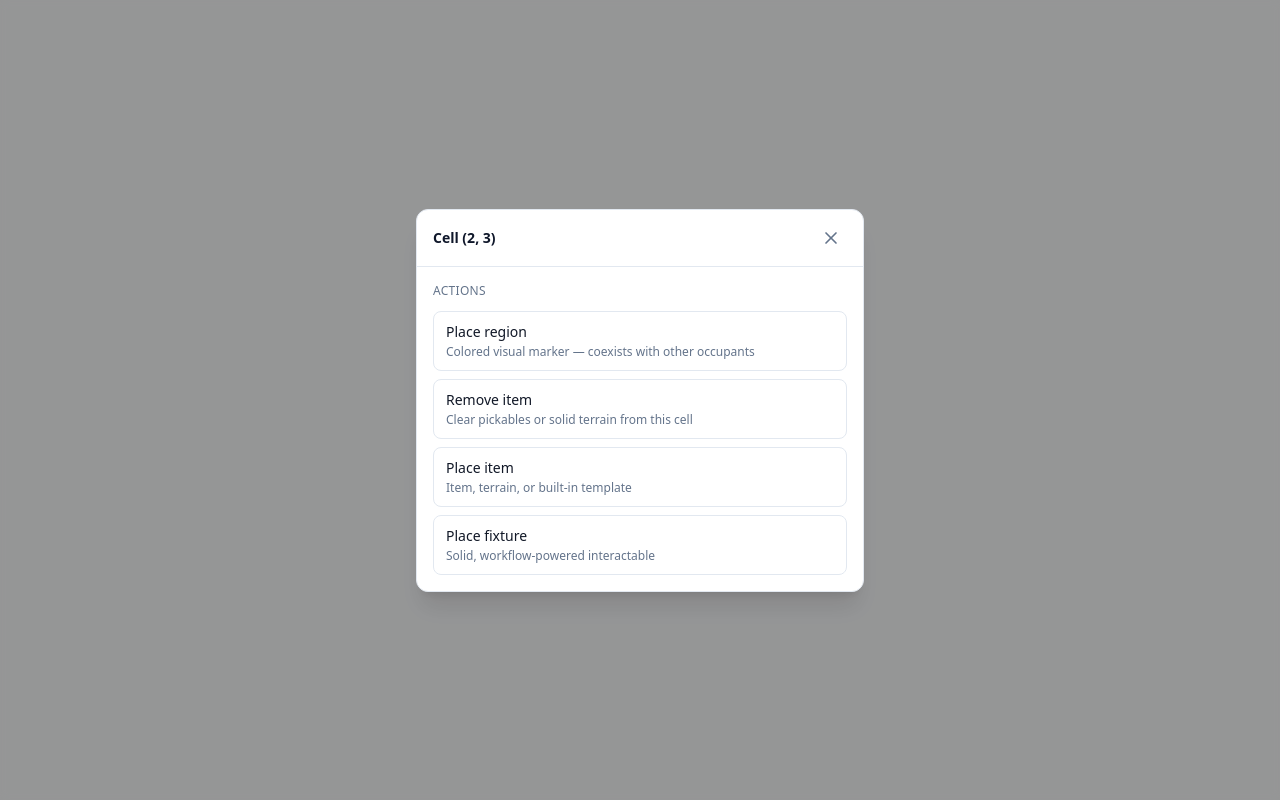
SandboxCellActionModal › opens remove picker when multiple removable items share a cell
This screenshot has width=1280, height=800.
Click the button "Remove item Clear pickables or solid terrain from this cell" at (640, 408), box 433,378 -> 847,438
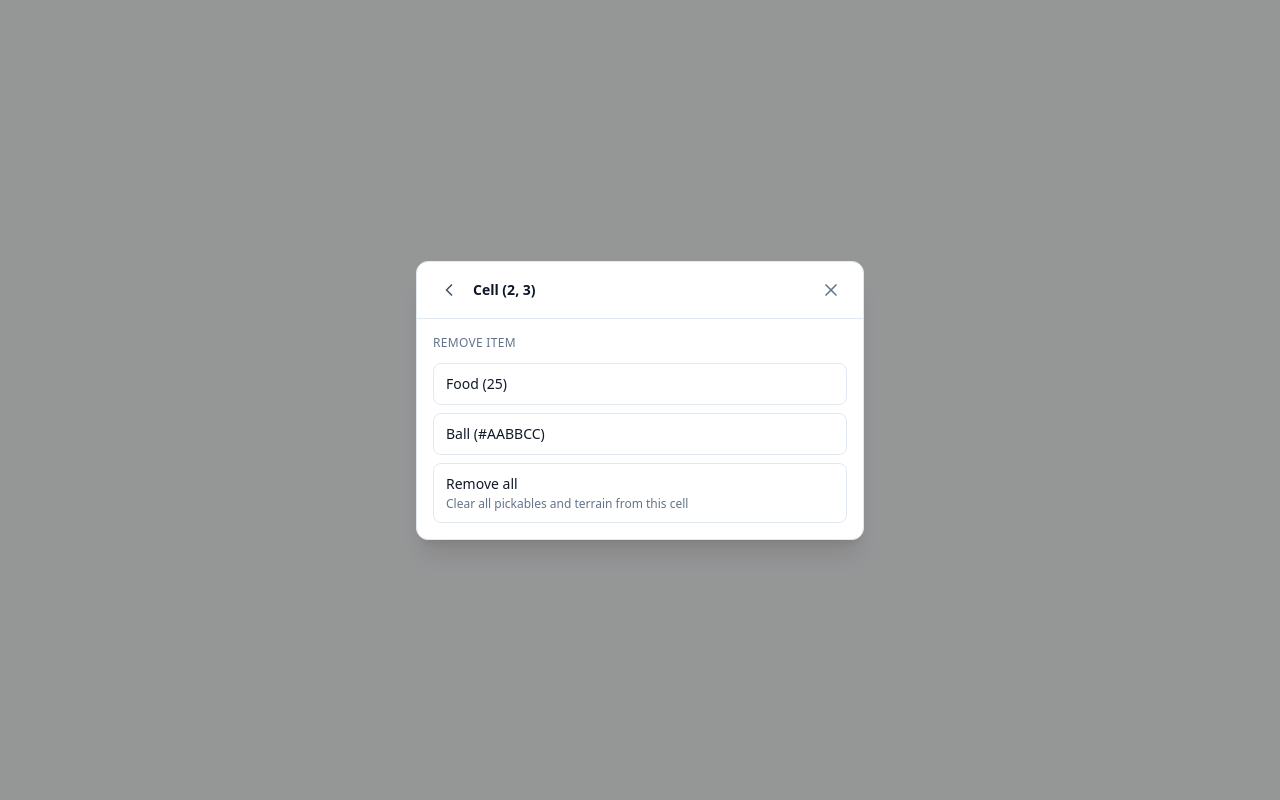
Expected: the button "Food (25)" is shown, 433,362 -> 847,404
Expected: the button "Ball (#AABBCC)" is shown, 433,412 -> 847,454
Expected: the button "Remove all Clear all pickables and terrain from this cell" is shown, 433,462 -> 847,522
